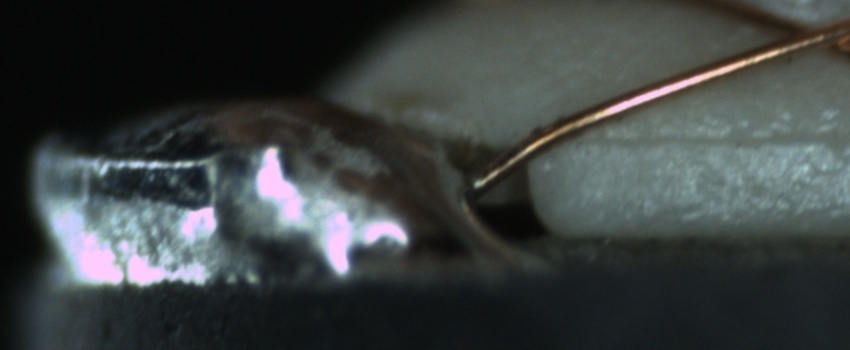CL: (752, 4, 849, 64)
DL: (575, 104, 849, 172)
